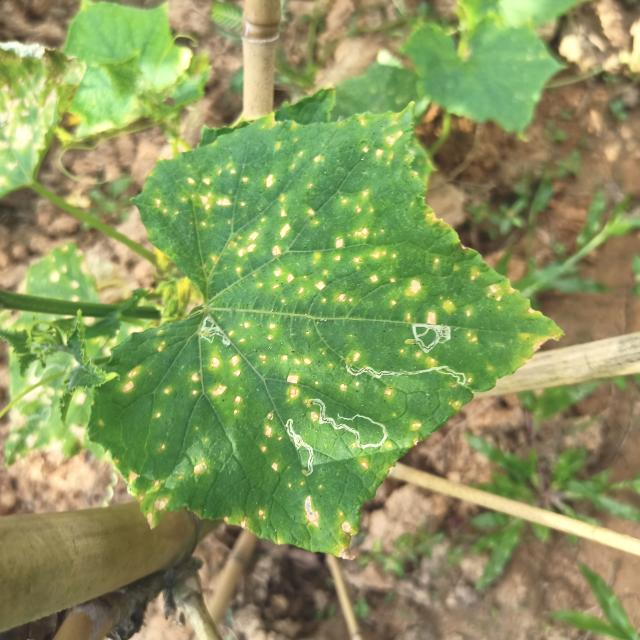disease_cucumber: (149, 130, 530, 328), (151, 341, 243, 425), (124, 444, 208, 527), (228, 321, 310, 402), (294, 490, 359, 538), (259, 409, 283, 475), (335, 379, 398, 398), (223, 506, 270, 530), (118, 364, 140, 400), (397, 349, 437, 367), (409, 420, 423, 450)
